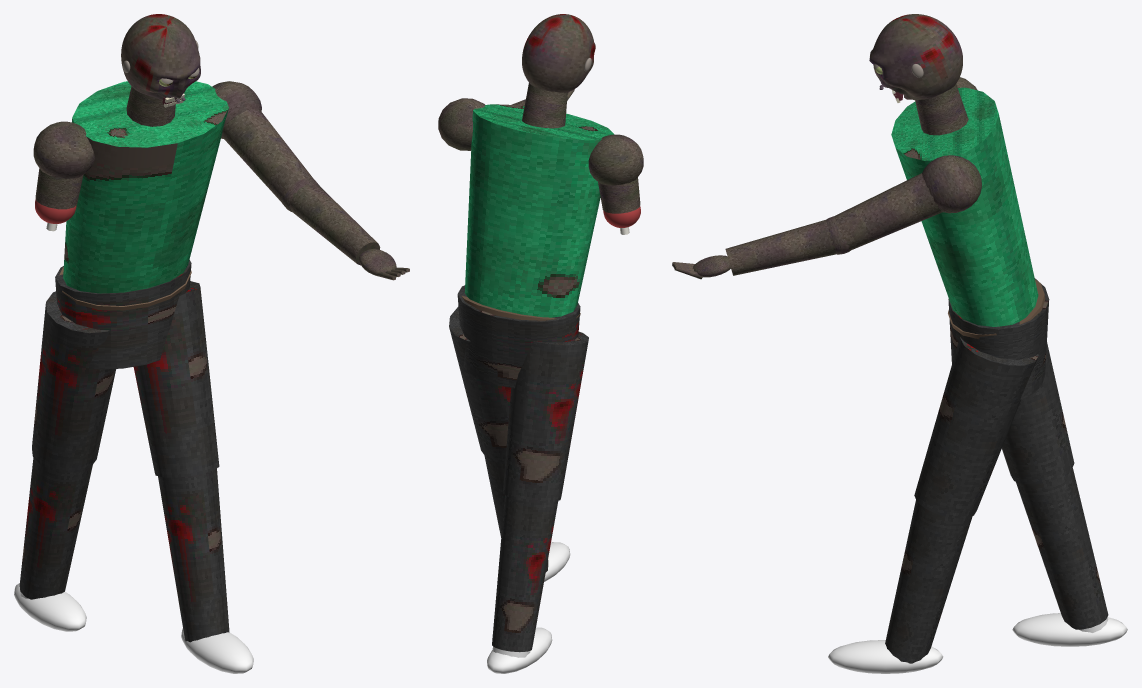
File: Zombie_043.glb
3 renders of one model, left to right at view 1: azimuth 30°, elevation 25°; view 2: azimuth 150°, elevation 25°; view 3: azimuth 270°, elevation 25°, orthographic. The views are drawn at different scales.
Visible parts, largest first — view 1: Zombie_043, object 9, object 3, object 4; view 2: Zombie_043, object 9; view 3: Zombie_043, object 9, object 3.
Boxes of the visible parts, box(x1,y1,x2,y2) form: Zombie_043: box(14, 81, 313, 673); object 9: box(121, 14, 200, 100); object 3: box(289, 183, 380, 265); object 4: box(359, 248, 396, 275); Zombie_043: box(438, 83, 643, 673); object 9: box(522, 14, 595, 92); Zombie_043: box(828, 77, 1127, 673); object 9: box(869, 14, 962, 100); object 3: box(725, 220, 836, 275).
Bounding box in the file's own units: 0.7082 × 1.88 × 1.21.
17 materials, 5 textured.
